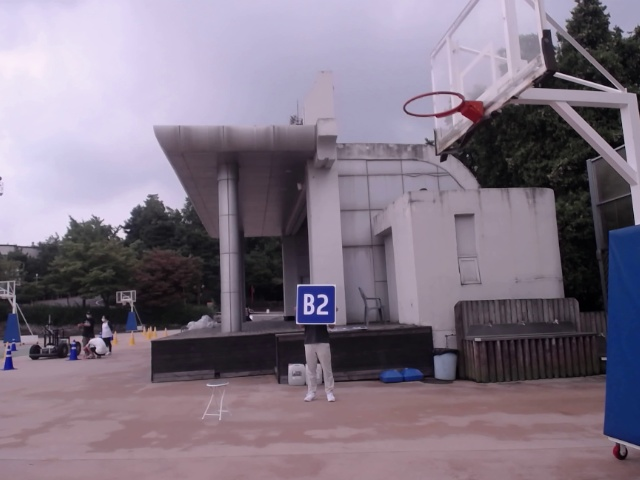delivery_b2: (296, 283, 336, 325)
